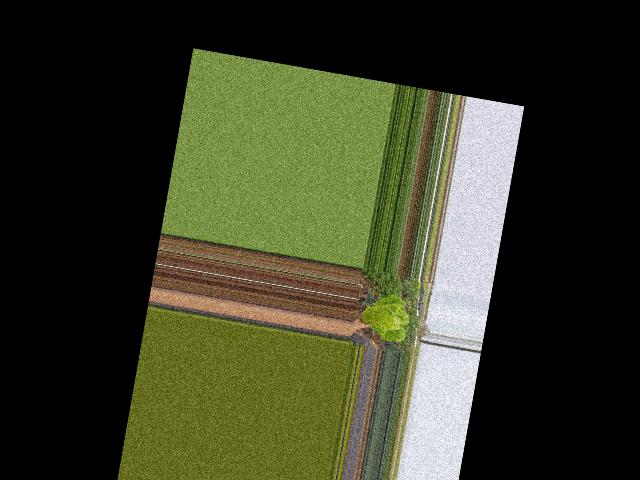lettuce: (353, 288, 413, 346)
